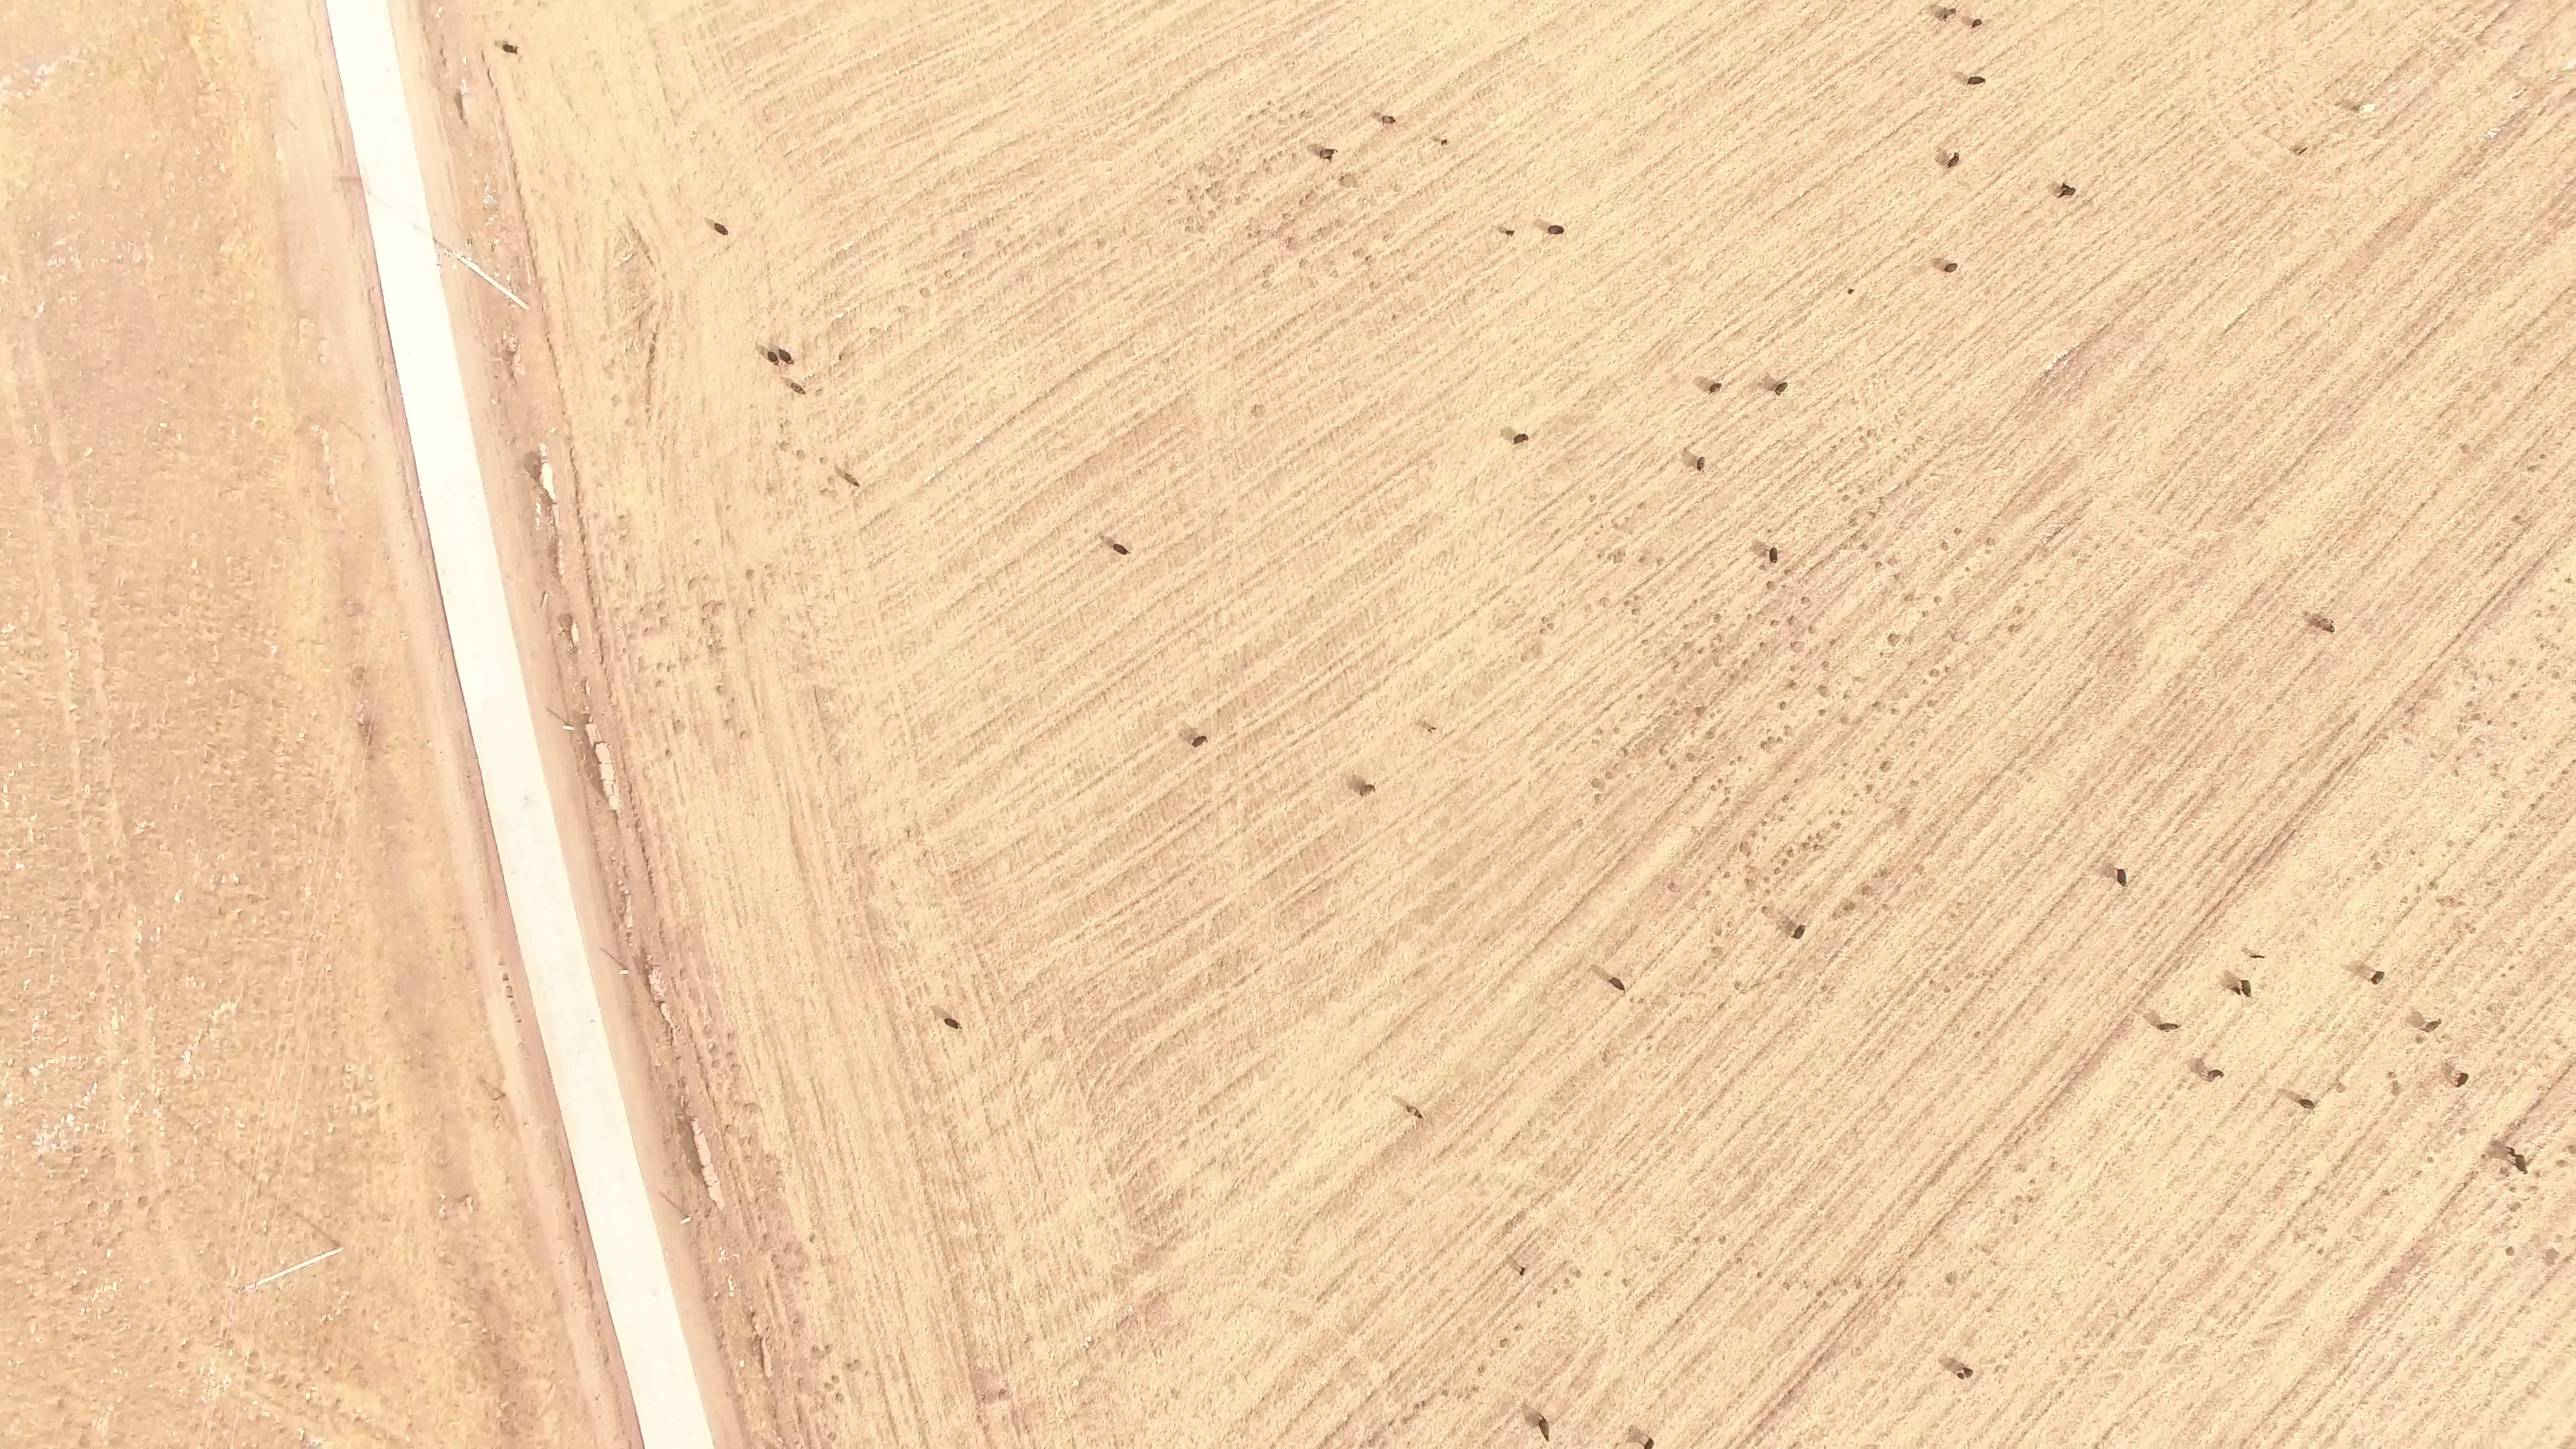sheep: (1765, 376, 1796, 400), (1540, 221, 1570, 240), (1315, 144, 1342, 166), (1702, 378, 1730, 398), (2509, 1148, 2530, 1177), (1374, 111, 1404, 130), (2151, 1017, 2182, 1035), (1931, 5, 1960, 23), (1401, 1101, 1426, 1122), (1688, 453, 1712, 474), (709, 219, 735, 240), (1949, 1363, 1976, 1383), (2418, 1016, 2445, 1036), (1763, 544, 1785, 566), (2292, 1093, 2318, 1113), (1788, 919, 1809, 943), (2054, 180, 2079, 200), (1535, 1413, 1552, 1444), (1960, 73, 1990, 88), (2111, 863, 2129, 890), (841, 470, 862, 490), (788, 378, 808, 398), (2204, 1066, 2227, 1085), (1604, 974, 1627, 994), (1509, 430, 1534, 447), (941, 1014, 963, 1032), (1943, 151, 1962, 171), (498, 38, 521, 57), (777, 346, 796, 368), (2453, 1069, 2471, 1091), (2236, 976, 2254, 1000), (1356, 782, 1378, 799), (1187, 733, 1210, 751), (2367, 967, 2387, 987), (1110, 541, 1133, 559), (1939, 259, 1961, 276), (1499, 225, 1521, 241), (2353, 101, 2375, 117), (1967, 15, 1985, 32), (765, 349, 782, 368), (1435, 136, 1455, 150), (2292, 144, 2308, 159), (1421, 723, 1440, 737), (2249, 951, 2266, 964), (1516, 1264, 1529, 1279), (1844, 286, 1856, 297)
unknown: (555, 610, 582, 645), (2305, 611, 2337, 635), (355, 716, 378, 749), (450, 89, 467, 123), (336, 172, 366, 191), (502, 347, 518, 381), (607, 1333, 624, 1360), (2187, 1055, 2208, 1077), (632, 1419, 648, 1449), (544, 539, 561, 568), (506, 916, 521, 950), (409, 454, 423, 489), (2351, 961, 2373, 982), (491, 846, 506, 877), (596, 1341, 612, 1368), (2542, 1246, 2560, 1268), (1625, 1426, 1646, 1446), (462, 764, 485, 780), (755, 1343, 767, 1371), (582, 1277, 596, 1302), (1841, 899, 1859, 916), (2322, 87, 2344, 103), (387, 378, 405, 397), (2441, 1061, 2457, 1079), (645, 341, 659, 367), (452, 682, 468, 704), (610, 1379, 623, 1403), (676, 1203, 692, 1222), (2056, 1082, 2074, 1099), (460, 747, 478, 763), (2389, 1078, 2402, 1097), (614, 904, 627, 924), (354, 664, 368, 684), (2507, 1200, 2524, 1215), (652, 998, 669, 1014), (2267, 833, 2282, 850), (1641, 1435, 1657, 1449), (677, 1099, 691, 1116), (1692, 704, 1709, 719), (1815, 682, 1829, 699), (1412, 1398, 1428, 1412), (746, 1334, 761, 1349), (2503, 1244, 2517, 1259), (2497, 1165, 2512, 1178), (1858, 883, 1874, 898), (2251, 853, 2264, 868), (1683, 751, 1698, 765), (1877, 758, 1890, 774), (2041, 362, 2054, 379), (388, 355, 400, 373), (383, 396, 395, 416), (627, 1404, 640, 1419), (995, 1386, 1009, 1399), (1800, 1370, 1813, 1383), (591, 1315, 604, 1328), (454, 1193, 469, 1206), (615, 959, 630, 973), (1709, 944, 1724, 957), (1778, 792, 1792, 804), (1368, 1430, 1382, 1445), (617, 890, 629, 906), (1863, 781, 1876, 796), (1619, 744, 1631, 759), (368, 301, 379, 318), (745, 1309, 758, 1324), (595, 1278, 606, 1291), (329, 1238, 343, 1251), (2554, 1157, 2567, 1170), (2412, 1034, 2426, 1046), (2426, 878, 2438, 891), (1798, 839, 1811, 851), (2320, 777, 2333, 789), (1816, 706, 1829, 719), (2508, 690, 2522, 702), (578, 531, 588, 544), (2524, 462, 2538, 474), (777, 439, 789, 452), (2565, 1142, 2576, 1157), (109, 1014, 120, 1030), (575, 514, 586, 529), (401, 421, 412, 437), (386, 341, 397, 358), (1337, 173, 1348, 189), (1766, 1407, 1778, 1418), (274, 1373, 287, 1386), (1813, 1354, 1826, 1366), (1813, 1289, 1825, 1300), (1853, 1279, 1864, 1292), (1561, 1276, 1573, 1288), (1943, 1274, 1955, 1286), (2314, 1246, 2326, 1257), (1933, 1217, 1946, 1230), (2380, 1187, 2392, 1199), (2424, 1154, 2436, 1165), (2526, 1102, 2539, 1114), (2081, 1059, 2092, 1071), (1971, 1028, 1983, 1041), (662, 1019, 674, 1032), (628, 1008, 641, 1020), (1716, 1000, 1728, 1012), (500, 971, 512, 984), (609, 920, 622, 933), (500, 888, 511, 901), (2226, 883, 2238, 895), (1665, 879, 1678, 892), (1877, 867, 1890, 880), (2243, 864, 2255, 876), (1589, 779, 1602, 791), (2339, 757, 2351, 769), (1757, 739, 1769, 751), (2469, 710, 2481, 723), (1869, 700, 1881, 710), (1727, 671, 1739, 684), (2015, 604, 2027, 616), (2515, 576, 2526, 588), (2530, 557, 2543, 570), (1951, 525, 1964, 537), (436, 44, 447, 57), (1784, 1387, 1796, 1401), (588, 1299, 598, 1312), (505, 983, 516, 997), (513, 953, 524, 965), (561, 718, 574, 729), (1785, 677, 1796, 692), (744, 566, 757, 578), (416, 493, 427, 508), (624, 1436, 635, 1449), (619, 1425, 630, 1437), (1399, 1414, 1411, 1427), (1439, 1387, 1451, 1398), (843, 1360, 855, 1373), (2353, 1313, 2365, 1323), (604, 1311, 615, 1324), (1830, 1277, 1842, 1289), (1509, 1257, 1521, 1269), (1718, 1234, 1729, 1245), (2025, 1193, 2036, 1205), (2448, 1192, 2459, 1204), (2001, 1147, 2012, 1159), (1949, 1147, 1961, 1159), (2502, 1132, 2514, 1144), (64, 1113, 76, 1124), (497, 1089, 508, 1102), (2385, 1069, 2396, 1081), (2561, 1066, 2572, 1077), (418, 1061, 428, 1071), (218, 1002, 229, 1013), (1818, 983, 1829, 994), (1941, 963, 1951, 974), (2462, 920, 2473, 932), (2446, 895, 2457, 906), (172, 892, 182, 904), (1779, 856, 1790, 869), (641, 855, 652, 865), (638, 843, 649, 857), (1736, 841, 1747, 853), (610, 810, 621, 823), (2528, 800, 2538, 812), (1689, 773, 1700, 786), (1602, 769, 1613, 781), (2332, 764, 2344, 775), (1667, 761, 1678, 772), (465, 737, 477, 749), (1837, 714, 1849, 725), (2404, 704, 2415, 716), (2463, 698, 2475, 710), (713, 684, 723, 695), (2552, 669, 2563, 682), (451, 665, 462, 678), (1819, 659, 1830, 670), (1682, 639, 1693, 651), (1886, 635, 1897, 647), (1621, 598, 1631, 610), (1764, 578, 1775, 591), (1636, 553, 1648, 566), (1858, 541, 1870, 552), (406, 504, 417, 517), (2417, 500, 2428, 511), (2251, 494, 2262, 504), (643, 395, 653, 407), (390, 370, 401, 381), (2406, 347, 2417, 360), (510, 293, 521, 304), (439, 56, 449, 68), (2496, 9, 2508, 20), (2240, 1436, 2250, 1446), (1322, 1435, 1332, 1446), (2100, 1433, 2110, 1443), (1754, 1421, 1765, 1431), (1009, 1408, 1019, 1418), (55, 1400, 65, 1411), (1774, 1399, 1785, 1410), (2524, 1388, 2535, 1398), (1469, 1384, 1479, 1394), (502, 1371, 513, 1381), (822, 1342, 832, 1353), (70, 1333, 80, 1343), (1113, 1322, 1123, 1332), (1672, 1317, 1682, 1327), (712, 1308, 722, 1319), (712, 1293, 722, 1303), (702, 1293, 712, 1303), (1550, 1286, 1560, 1297), (702, 1285, 712, 1295), (1601, 1269, 1611, 1279), (1572, 1267, 1584, 1278), (2391, 1267, 2401, 1277), (2408, 1260, 2419, 1271), (1733, 1254, 1745, 1265), (2562, 1254, 2573, 1265), (807, 1233, 817, 1243), (2294, 1232, 2304, 1242), (2010, 1216, 2021, 1227), (1513, 1210, 1524, 1222), (2298, 1199, 2308, 1210), (2012, 1193, 2024, 1203), (163, 1186, 173, 1196), (2506, 1184, 2517, 1194), (2461, 1179, 2471, 1189), (1925, 1178, 1935, 1188), (2027, 1177, 2037, 1187), (78, 1175, 88, 1185), (672, 1169, 683, 1180), (2047, 1161, 2057, 1171), (2339, 1152, 2349, 1163), (660, 1138, 671, 1148), (551, 1133, 561, 1143), (2457, 1125, 2468, 1135), (2512, 1124, 2522, 1134), (2533, 1096, 2544, 1108), (702, 1081, 712, 1091), (678, 1079, 688, 1089), (1234, 1076, 1244, 1086), (646, 1073, 656, 1083), (2073, 1068, 2084, 1079), (2565, 1061, 2575, 1071), (1599, 1054, 1610, 1065), (2484, 1003, 2495, 1014), (508, 998, 518, 1008), (1941, 985, 1951, 996), (1732, 981, 1742, 993), (2157, 961, 2167, 971), (2002, 955, 2012, 966), (623, 929, 634, 940), (2209, 903, 2220, 914), (1880, 901, 1890, 912), (503, 899, 513, 909), (1763, 887, 1773, 897), (2068, 881, 2079, 892), (498, 875, 508, 887), (1761, 874, 1771, 884), (13, 861, 23, 871), (2367, 853, 2377, 863), (1784, 847, 1794, 859), (1810, 841, 1820, 851), (1805, 833, 1815, 843), (2506, 832, 2516, 842), (1833, 820, 1843, 830), (631, 820, 642, 830), (1759, 818, 1769, 828), (1898, 804, 1909, 815), (2, 798, 12, 808), (1, 786, 11, 796), (2326, 771, 2337, 782), (2491, 761, 2501, 772), (366, 751, 378, 763), (457, 736, 468, 747), (2348, 714, 2358, 726), (1888, 705, 1898, 717), (2390, 700, 2400, 710), (2421, 686, 2432, 696), (1926, 668, 1937, 679), (1787, 663, 1798, 674), (1739, 658, 1750, 668), (2507, 657, 2518, 668), (1517, 653, 1529, 664), (569, 646, 580, 657), (705, 642, 716, 652), (1827, 638, 1837, 649), (2453, 632, 2463, 642), (2007, 622, 2017, 632), (1546, 620, 1556, 630), (2468, 614, 2479, 625), (590, 604, 600, 615), (2546, 603, 2557, 614), (1931, 594, 1941, 606), (2488, 592, 2499, 603), (2564, 575, 2574, 586), (1891, 571, 1902, 583), (549, 567, 559, 577), (1872, 560, 1882, 572), (1614, 548, 1625, 559), (1097, 533, 1107, 543), (409, 522, 419, 532), (1611, 521, 1621, 531), (2511, 513, 2522, 523), (1868, 509, 1879, 520), (2246, 500, 2256, 511), (1841, 492, 1851, 503), (1902, 477, 1913, 488), (2537, 451, 2548, 462), (2458, 443, 2468, 453), (494, 396, 504, 407), (644, 382, 654, 393), (839, 349, 849, 359), (545, 341, 555, 352), (1389, 312, 1399, 322), (379, 305, 389, 317), (377, 293, 387, 304), (504, 289, 515, 300), (370, 256, 380, 266), (1285, 234, 1295, 245), (1244, 230, 1254, 241), (2565, 89, 2575, 99), (2474, 32, 2485, 42), (2090, 1441, 2101, 1449), (1754, 1049, 1765, 1059), (721, 717, 731, 729), (555, 671, 565, 682), (1629, 606, 1639, 617), (399, 408, 409, 422), (1761, 1415, 1771, 1425), (833, 1391, 843, 1401), (1809, 1362, 1819, 1373), (490, 1351, 500, 1361), (1497, 1340, 1507, 1350), (1501, 1335, 1511, 1345), (2359, 1303, 2369, 1313), (2384, 1272, 2394, 1283), (1693, 1234, 1703, 1244), (760, 1232, 770, 1242), (1926, 1228, 1936, 1238), (704, 1206, 714, 1216), (2312, 1183, 2322, 1193), (2532, 1169, 2542, 1179), (724, 1049, 735, 1059), (183, 1049, 193, 1061), (663, 1010, 673, 1020), (1986, 971, 1996, 981), (1532, 942, 1542, 953), (1759, 904, 1770, 914), (601, 883, 611, 894), (2484, 879, 2494, 889), (2263, 857, 2274, 867), (2282, 820, 2292, 830), (1715, 775, 1725, 786), (1990, 773, 2000, 783), (2560, 767, 2571, 777), (1705, 729, 1715, 739), (465, 727, 475, 737), (2484, 718, 2494, 728), (1925, 698, 1935, 708), (1778, 698, 1788, 708), (1695, 647, 1705, 657), (596, 637, 606, 647), (1784, 615, 1794, 627), (1712, 613, 1723, 623), (1631, 593, 1641, 603), (586, 587, 596, 597), (765, 484, 775, 494), (567, 454, 577, 464), (1680, 447, 1690, 457), (2054, 355, 2065, 365), (376, 353, 386, 363), (374, 278, 384, 289), (1362, 254, 1372, 264), (1094, 238, 1104, 248), (635, 235, 645, 246), (1203, 185, 1213, 195), (1953, 71, 1963, 81), (1754, 1436, 1764, 1446), (222, 1373, 232, 1383), (2556, 1073, 2566, 1083), (1965, 971, 1975, 981), (2151, 967, 2161, 977), (1756, 640, 1766, 650), (2383, 221, 2393, 231), (1870, 1443, 1880, 1449)
